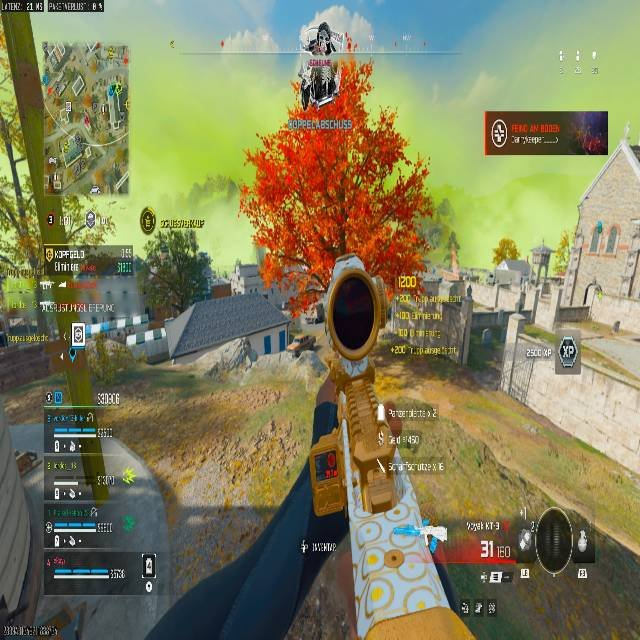player: (288, 333, 317, 360)
